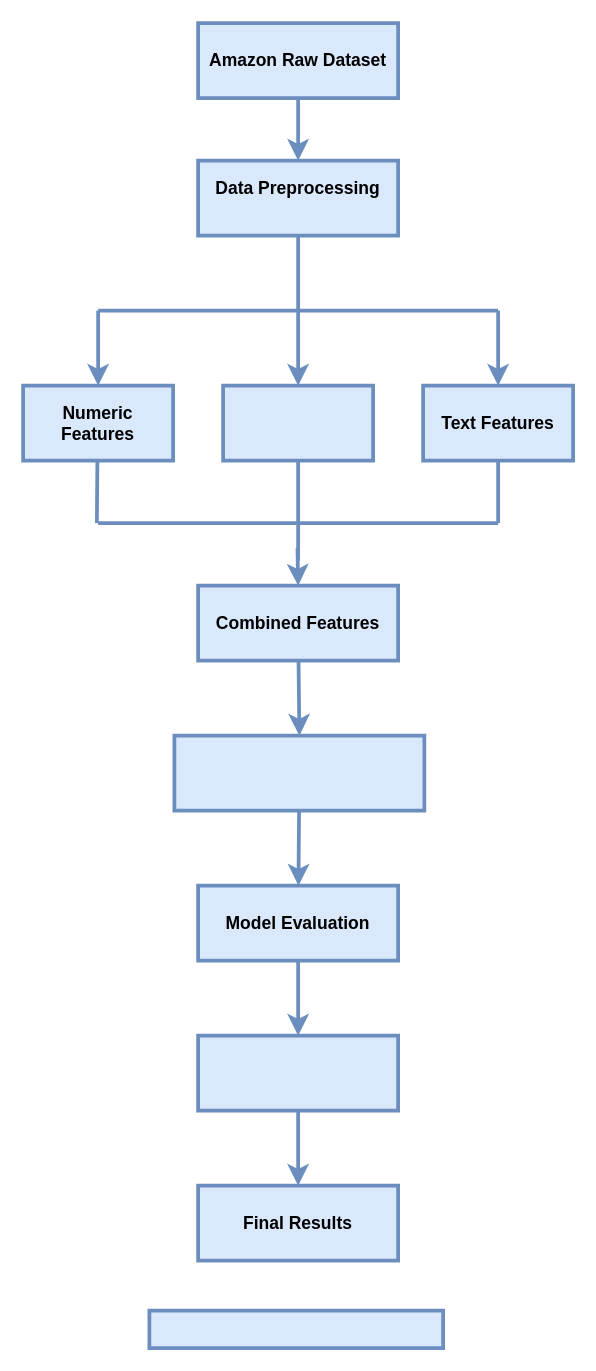
Image size: 596x1371. Some labels were removed from this diagram. The centre of each missing label's shape, as x and y in pixels:
"Categorical Encoding" goes at point 297,422.
"Explainable AI (SHAP)" goes at point 297,1072.
"Fig: Project Process and Design" goes at point 295,1328.
"ML Classification/ Regression" goes at point 299,772.
